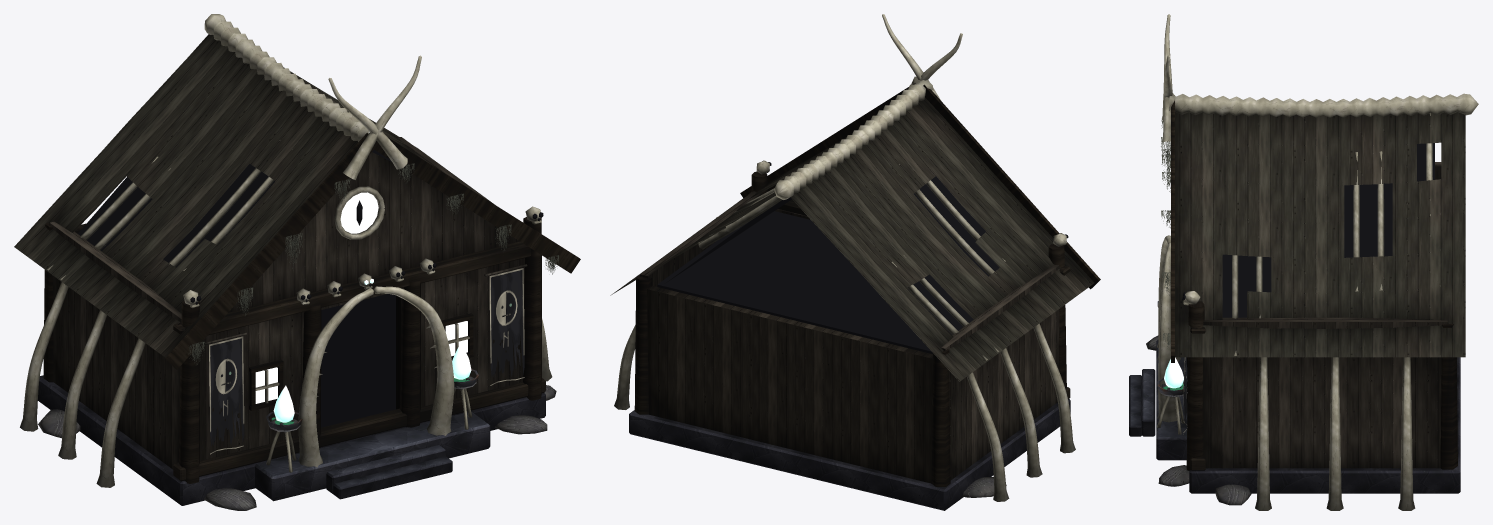
File: helheim_hall_facade.glb
The picture shows the model from 3 angles, left to right: view 1: azimuth 30°, elevation 25°; view 2: azimuth 150°, elevation 25°; view 3: azimuth 270°, elevation 25°; orthographic projection. The views are drawn at different scales.
Parts seen in each view (by area): view 1: helheim_hall_facade; view 2: helheim_hall_facade; view 3: helheim_hall_facade.
Boxes of the visible parts, left/top/right/bottom form: helheim_hall_facade: left=14, top=14, right=580, bottom=510; helheim_hall_facade: left=610, top=14, right=1100, bottom=510; helheim_hall_facade: left=1129, top=14, right=1478, bottom=510.
Bounding box in the file's own units: 9.49 × 8.12 × 6.84.
Materials: 11 (8 with a texture image).
